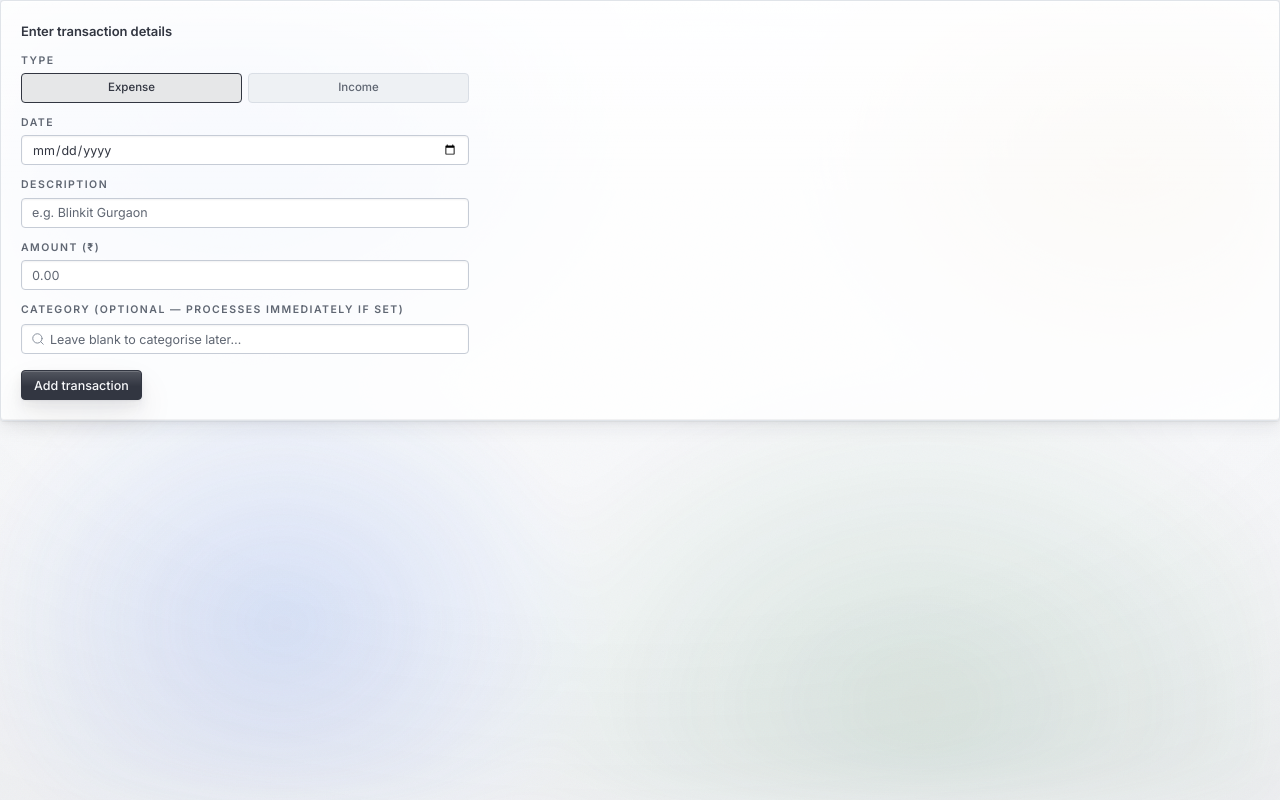
Test: future-dated transactions are rejected, past dates still work › ManualEntryPanel: a 1970 date passes date validation (no future-date error)
The image size is (1280, 800).
In the date field labelled "Date": (245, 150) [21,136,469,166], type "1970-01-15"
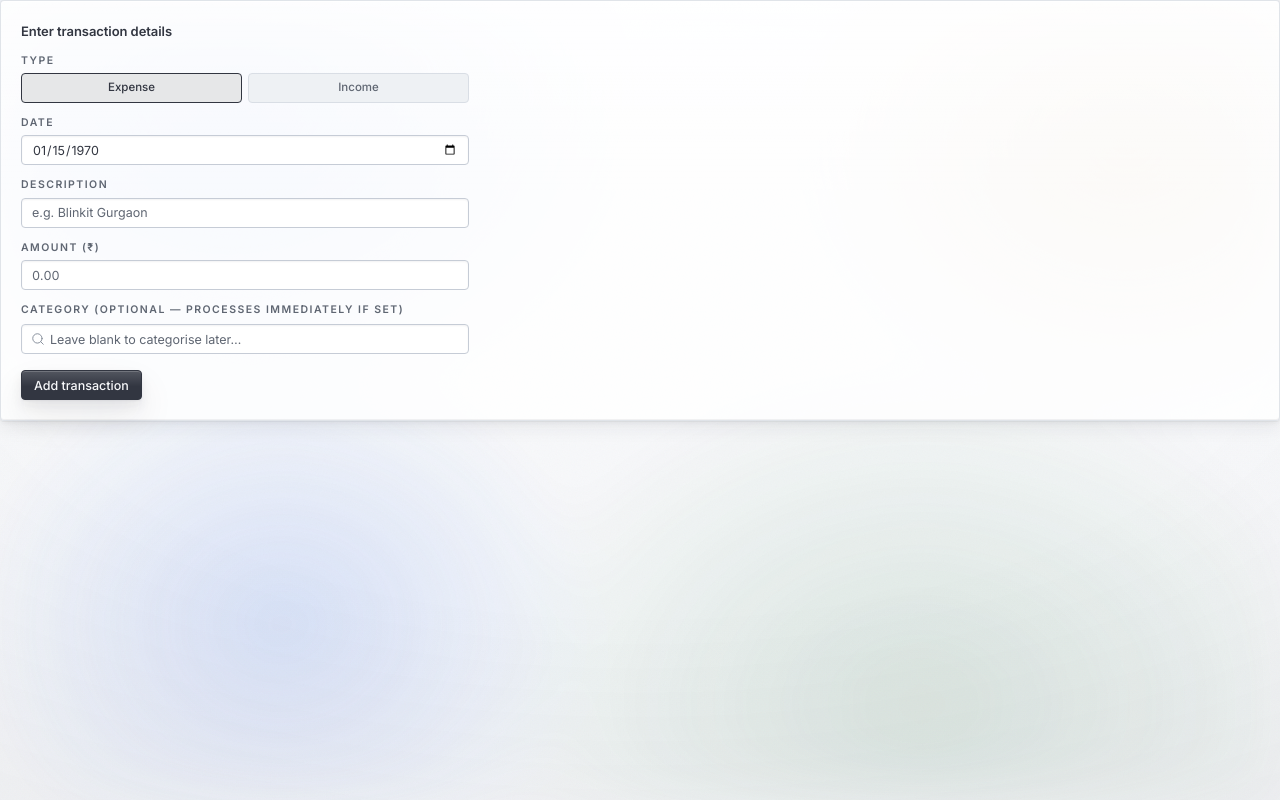
In the field labelled "Description": (245, 213) [21,198,469,228], type "Old test"
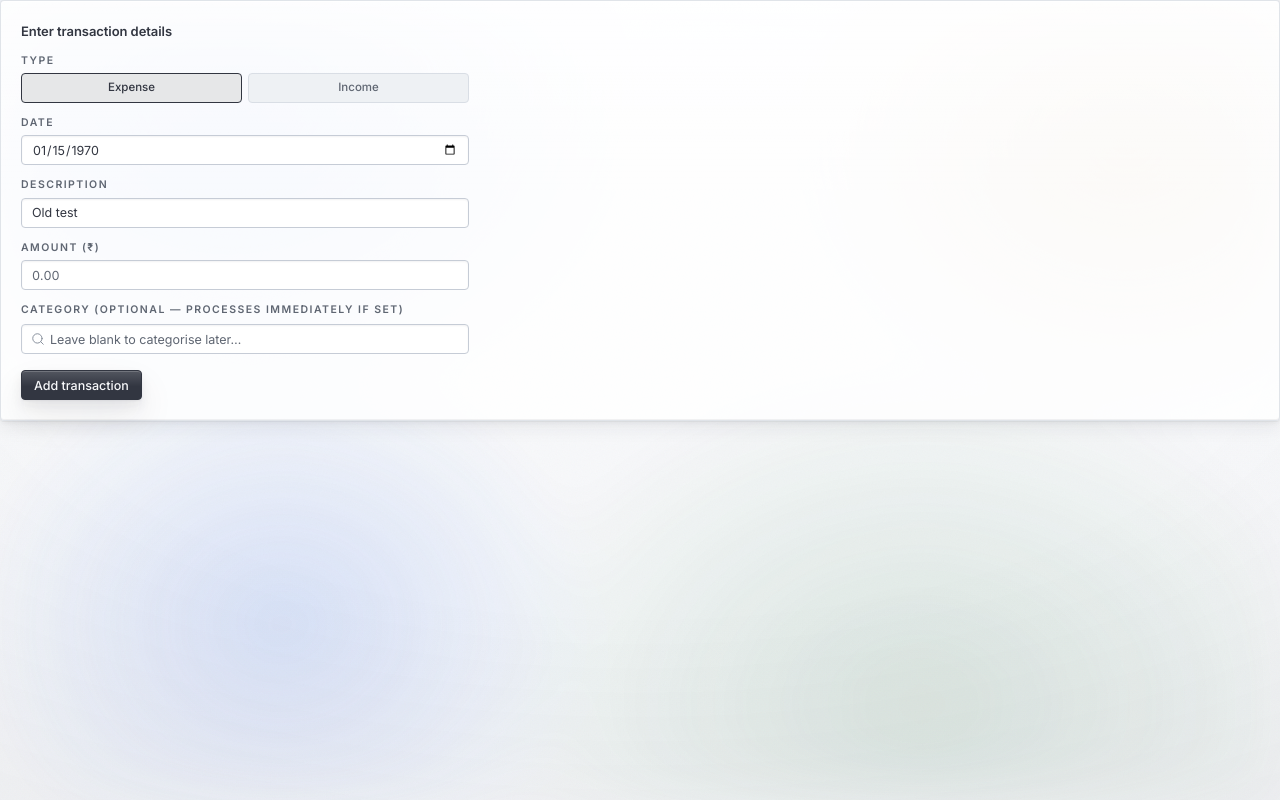
Submit the form, box [21,53,469,400]
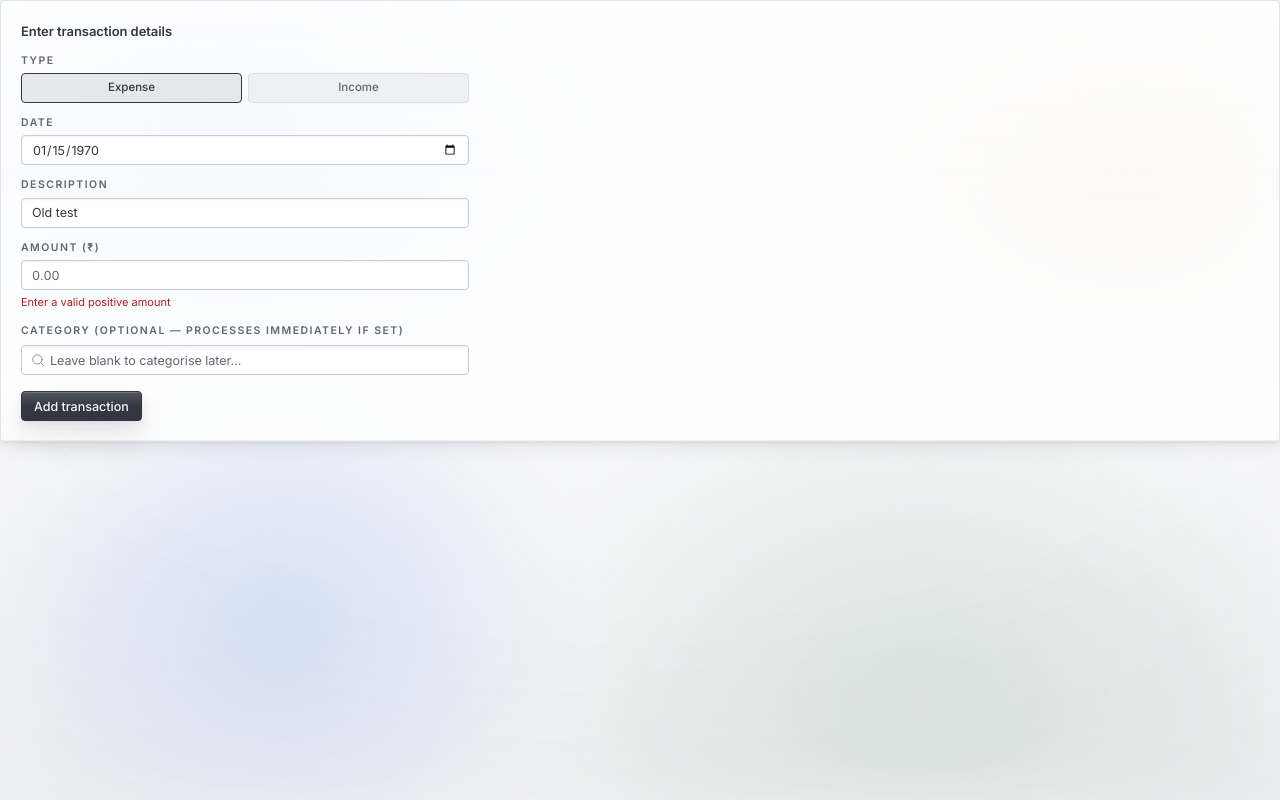
Now the text "Enter a valid positive amount" is shown, box [21,295,170,309]
